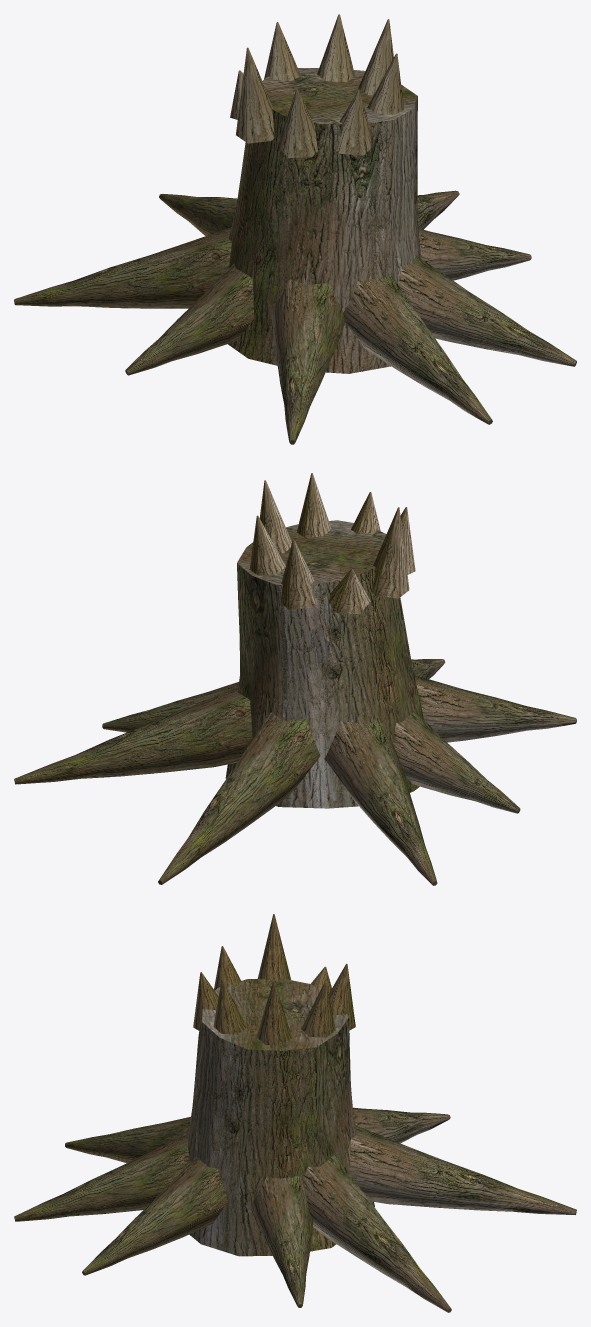
The model's file is broken_stump_lod2.gltf.
3 renders of one model, top to bottom at view 1: azimuth 30°, elevation 25°; view 2: azimuth 150°, elevation 25°; view 3: azimuth 270°, elevation 25°, orthographic. The views are drawn at different scales.
Parts seen in each view (by area): view 1: broken_stump_lod2; view 2: broken_stump_lod2; view 3: broken_stump_lod2.
Boxes of the visible parts, bbox=[...] form: broken_stump_lod2: bbox=[14, 14, 576, 444]; broken_stump_lod2: bbox=[14, 473, 576, 885]; broken_stump_lod2: bbox=[14, 914, 576, 1312].
Bounding box in the file's own units: 1.3 × 0.8441 × 1.58.
2 materials, 2 textured.
